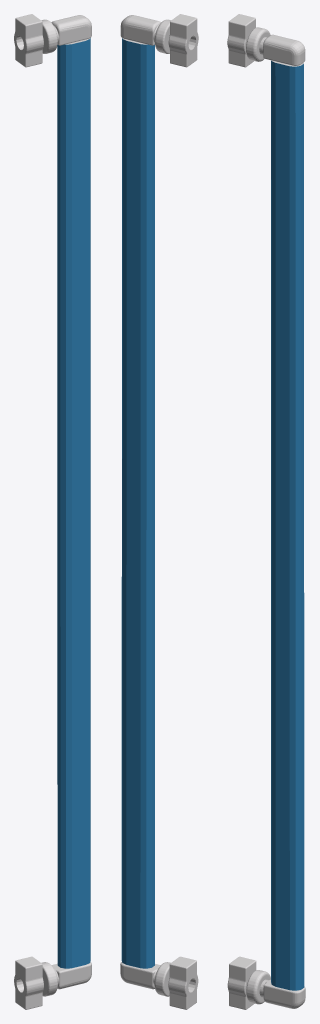
File: handrail_41_5.dae
The picture shows the model from 3 angles, left to right: view 1: azimuth 30°, elevation 25°; view 2: azimuth 150°, elevation 25°; view 3: azimuth 330°, elevation 25°; orthographic projection.
Visible parts, largest first — view 1: Handrail_41_5_001, Handrail_41_5; view 2: Handrail_41_5_001, Handrail_41_5; view 3: Handrail_41_5_001, Handrail_41_5.
Boxes of the visible parts, x1,y1,x2,y2 form: Handrail_41_5_001: (57,38,90,968); Handrail_41_5: (14,14,91,1009); Handrail_41_5_001: (121,38,154,968); Handrail_41_5: (120,14,198,1009); Handrail_41_5_001: (271,60,304,990); Handrail_41_5: (227,14,305,1009).
Bounding box in the file's own units: 0.0784 × 0.0332 × 1.06.
